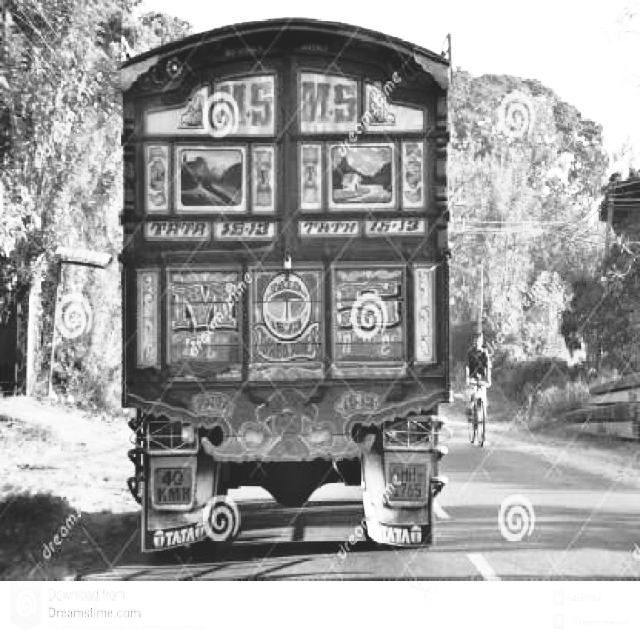HCV: (123, 49, 439, 515)
